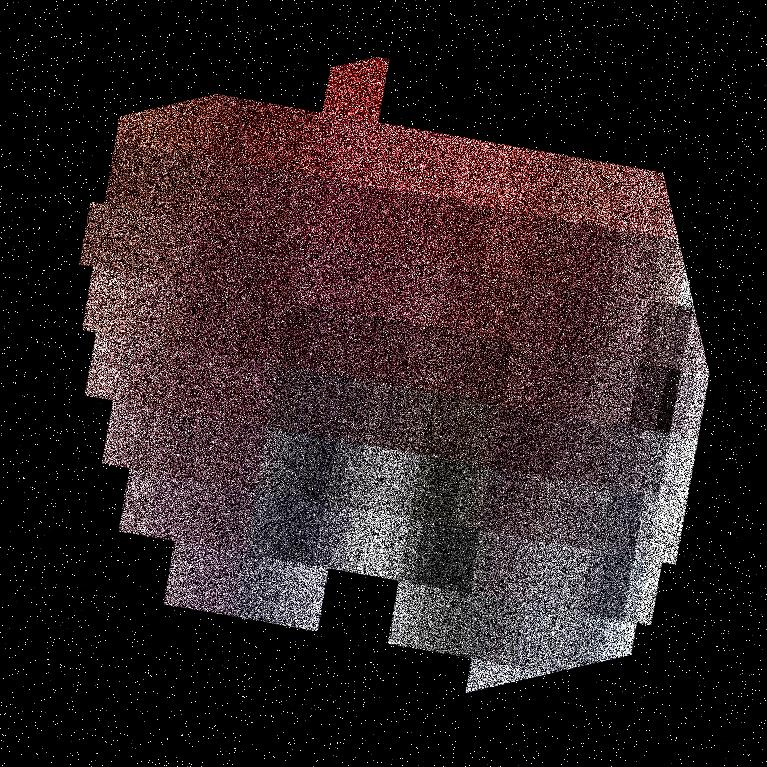Oculos: (198, 0, 766, 766)
